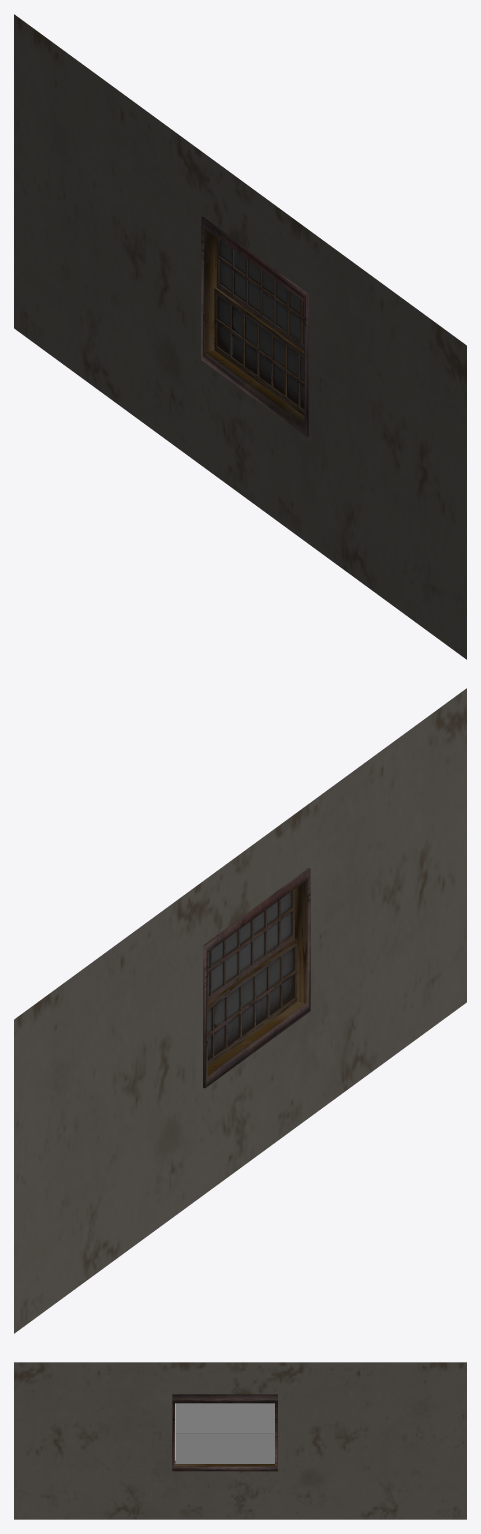
The model's file is Kitchen wall neighbor's house.fbx.
The picture shows the model from 3 angles, top to bottom: view 1: azimuth 30°, elevation 25°; view 2: azimuth 150°, elevation 25°; view 3: azimuth 270°, elevation 25°; orthographic projection. The views are drawn at different scales.
Visible parts, largest first — view 1: Parede Cozinha; view 2: Parede Cozinha; view 3: Parede Cozinha.
Boxes of the visible parts, x1,y1,x2,y2 form: Parede Cozinha: [14, 14, 466, 659]; Parede Cozinha: [14, 688, 466, 1333]; Parede Cozinha: [14, 1362, 466, 1519].
Size of the model in its own units: 24.66 by 300 by 784.
